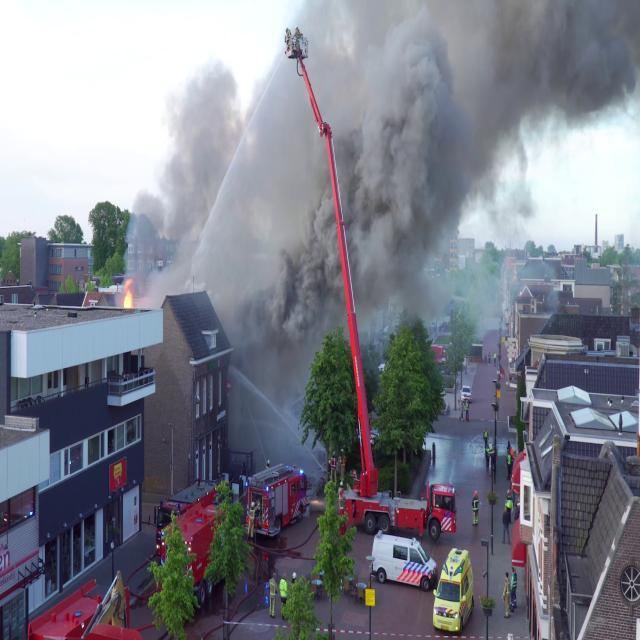Fire: (117, 276, 136, 312)
Smoke: (145, 0, 640, 351)
